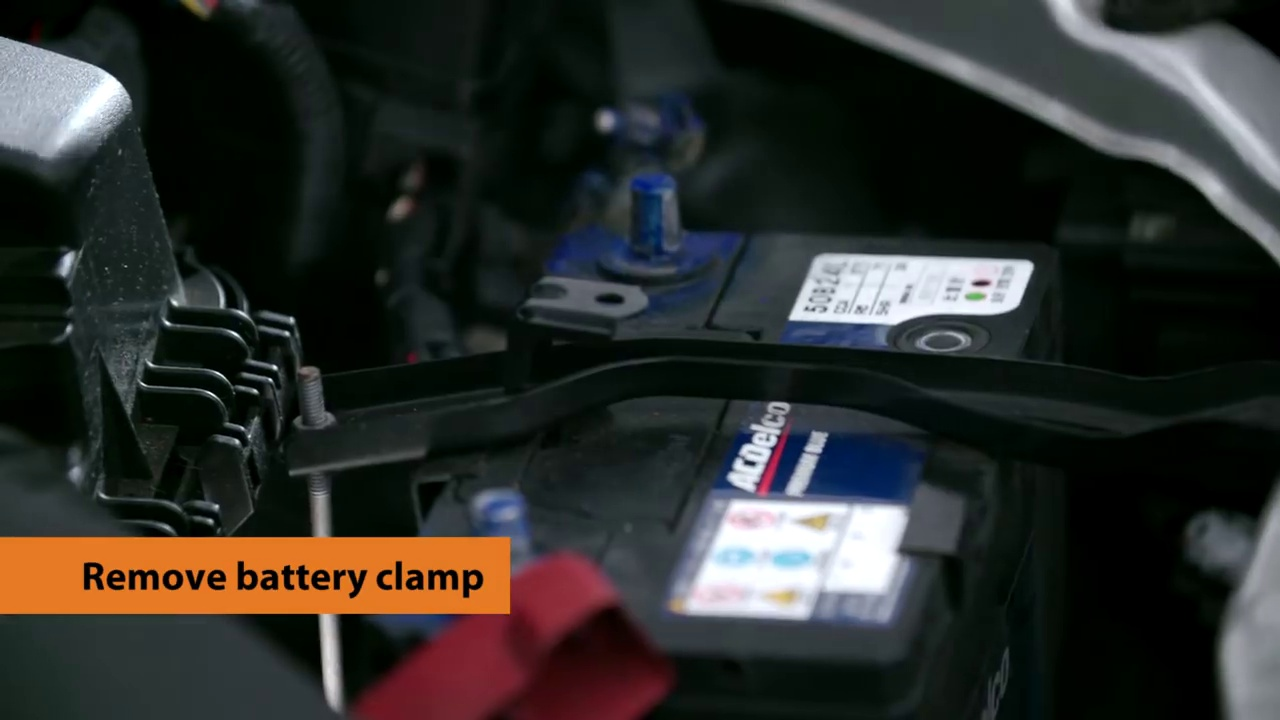battery: (383, 200, 1053, 670)
